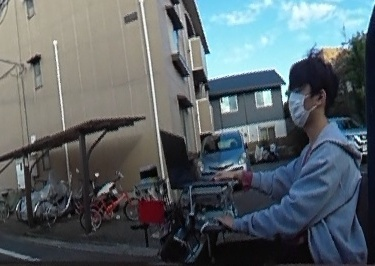person: (266, 55, 362, 266)
